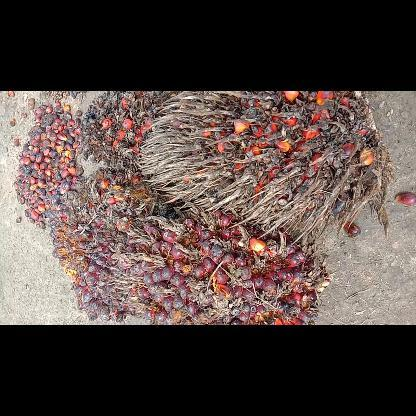TBS masak: (114, 210, 330, 324), (46, 168, 188, 320)
Terlalu masak: (137, 91, 393, 243), (81, 90, 167, 172)
